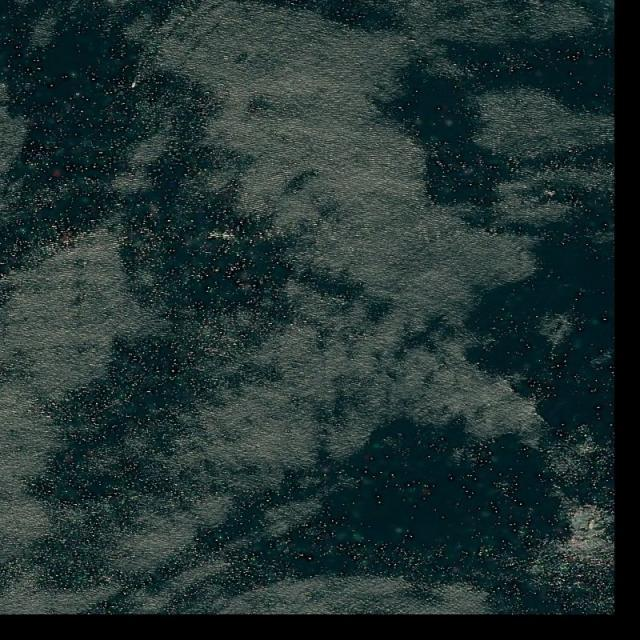ship: (131, 82, 137, 90)
